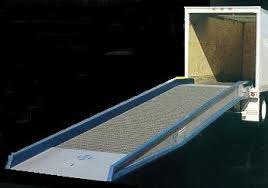Yard Ramp: (6, 76, 252, 182)
